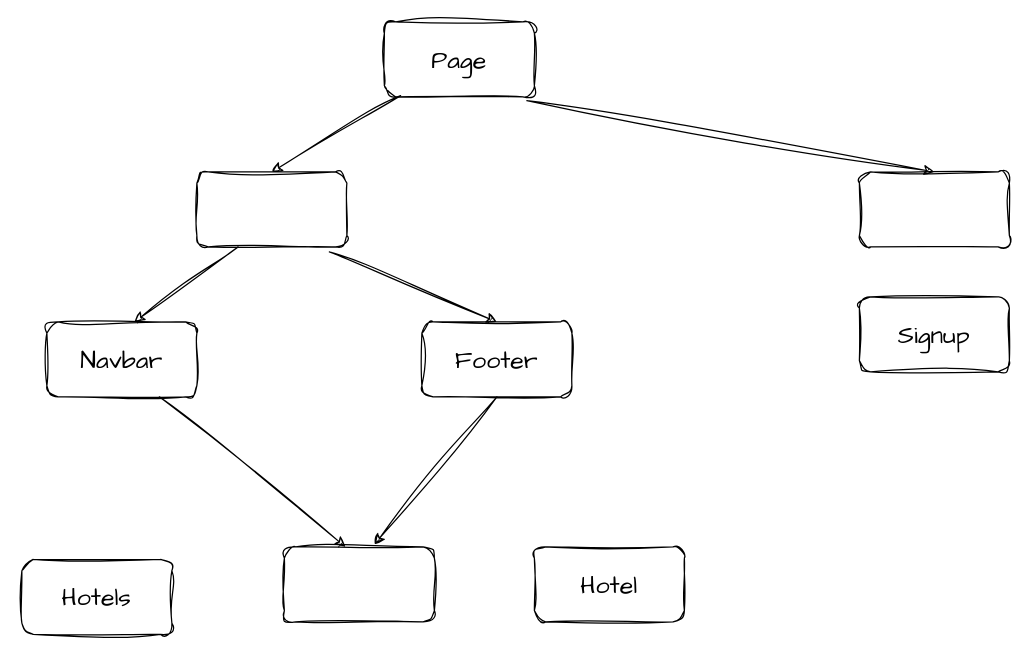
This 1031x656 diagram has some shape labels left out. Each missing label, with the centre of its shape:
Home: the point at 271,209
Main: the point at 358,584
Signin: the point at 933,209
